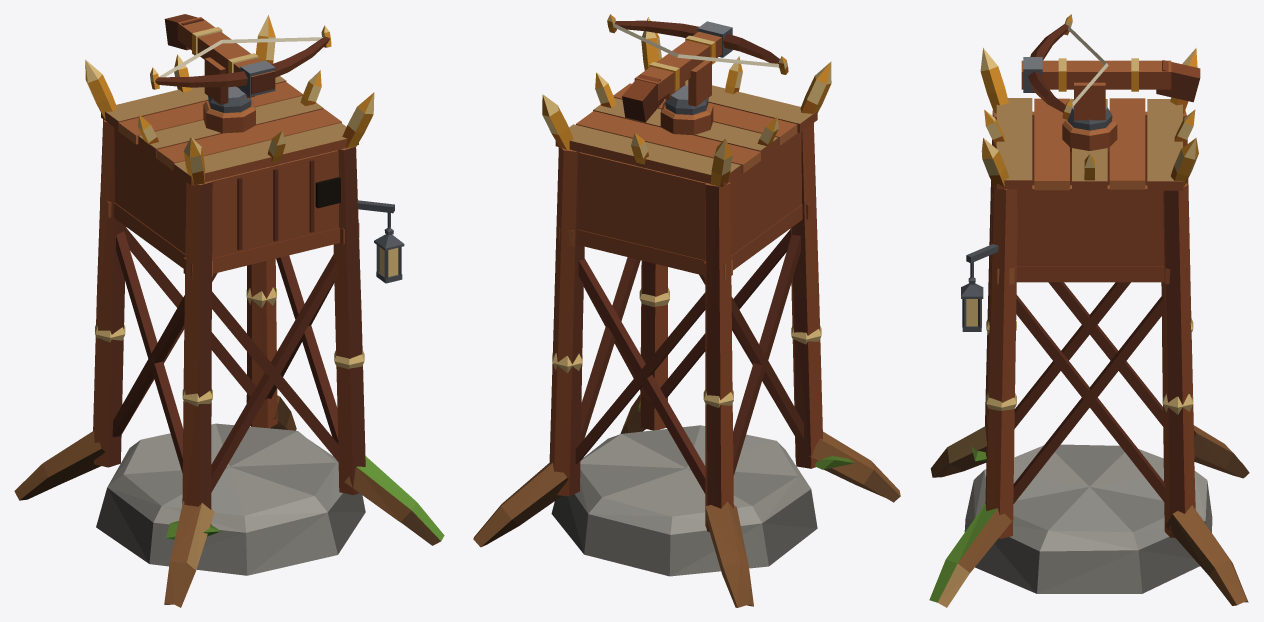
Rendered from acorn_tower_5.glb.
3 views of the same model, side by side, from view 1: azimuth 30°, elevation 25°; view 2: azimuth 150°, elevation 25°; view 3: azimuth 270°, elevation 25° (orthographic).
Visible parts, largest first — view 1: acorn_tower_5, turret, bow_string; view 2: acorn_tower_5, turret, bow_string; view 3: acorn_tower_5, turret.
Part boxes in pixels (x1,y1,x2,y2): acorn_tower_5: (14, 15, 444, 607); turret: (150, 14, 331, 112); bow_string: (159, 37, 323, 77); acorn_tower_5: (473, 17, 900, 607); turret: (607, 14, 788, 122); bow_string: (613, 24, 779, 67); acorn_tower_5: (929, 48, 1249, 607); turret: (1021, 14, 1200, 130).
Bounding box in the file's own units: 1.94 × 3.18 × 1.91.
